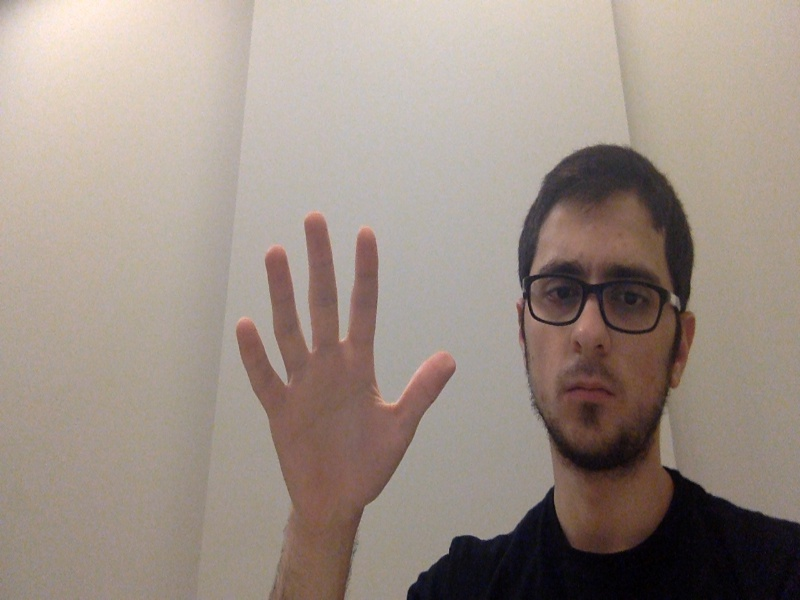5-hand: (232, 209, 463, 524)
